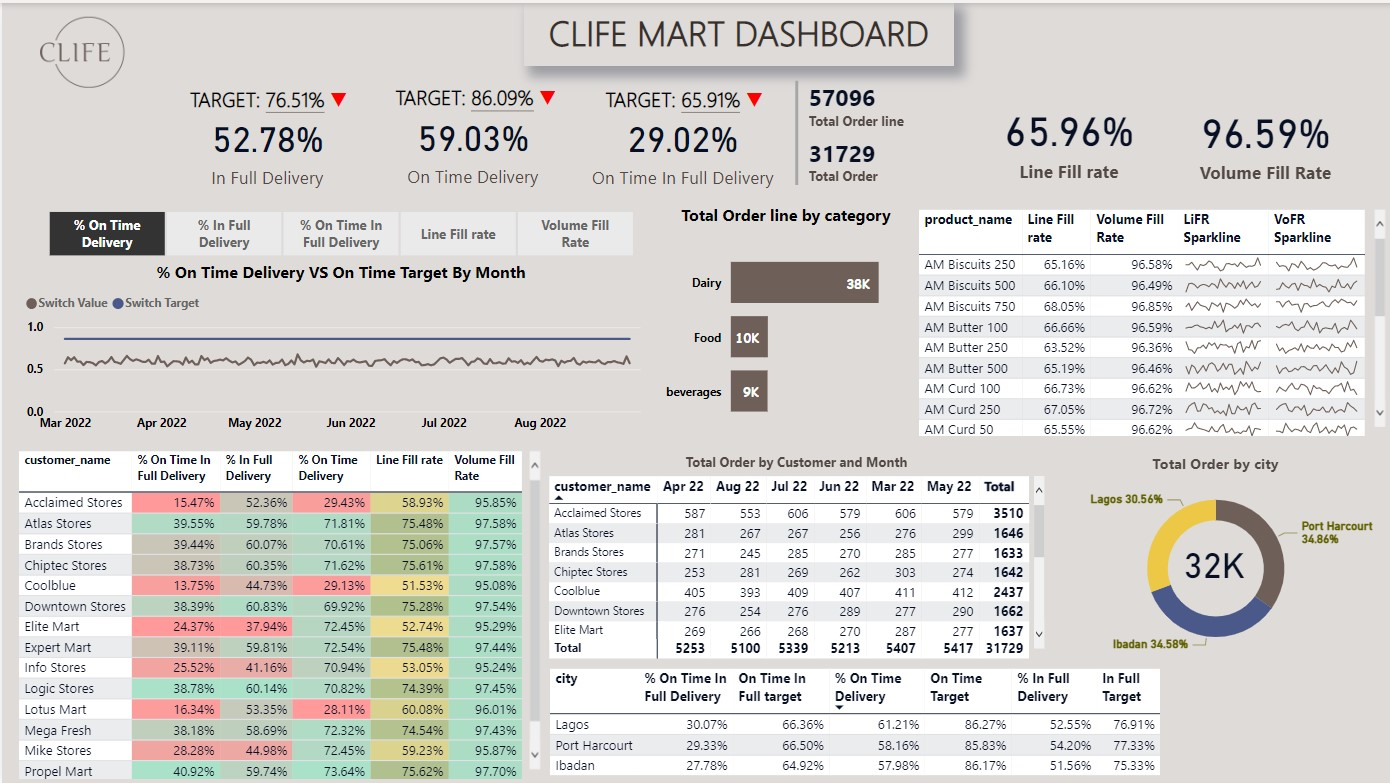

Layout of this report page (visuals, bound fields, positions):
{"tool":"powerbi","page":{"name":"Dashboard","canvas":[1280,720],"ordinal":0},"visuals":[{"type":"group","id":"g1","title":"Group 1","box":[154.4,66.9,182,133],"z":0,"group":"g4"},{"type":"textbox","box":[350.8,69.1,174.3,45.9],"z":0,"group":"g3"},{"type":"textbox","box":[544.8,70,174.3,45.9],"z":0,"group":"g5"},{"type":"textbox","box":[162.1,70.3,174.3,45.9],"z":0,"group":"g1"},{"type":"group","id":"g2","title":"Group 1","box":[17.2,185,591.6,218.6],"z":0},{"type":"slicer","fields":{"Values":["Parameter.Parameter"]},"box":[18,185,587,47.4],"z":0,"group":"g2"},{"type":"donutChart","fields":{"Category":["dim_customers.city"],"Y":["Measure.Total Order"]},"box":[964.9,414.9,307,194],"z":0,"group":"g6"},{"type":"image","box":[9.3,0,115.1,90.2],"z":1000},{"type":"group","id":"g3","title":"Group 1","box":[343.1,65.7,182,133],"z":1000,"group":"g4"},{"type":"card","fields":{"Values":["Measure.% On Time Delivery"]},"box":[343.1,65.7,178.9,133],"z":1000,"group":"g3"},{"type":"card","fields":{"Values":["Measure.% On Time In Full Delivery"]},"box":[537.1,66.6,178.9,133],"z":1000,"group":"g5"},{"type":"card","fields":{"Values":["Measure.% In Full Delivery"]},"box":[154.4,66.9,178.9,133],"z":1000,"group":"g1"},{"type":"lineChart","fields":{"Y":["Measure.Switch Value","Measure.Switch Target"],"Category":["dim_date.date"]},"box":[17.2,237,591.6,166.6],"z":1000,"group":"g2"},{"type":"card","fields":{"Values":["Measure.Total Order"]},"box":[1050.7,475.9,133,81],"z":1000,"group":"g6"},{"type":"group","id":"g4","title":"Group 2","box":[154.4,65.7,565.6,133],"z":2000},{"type":"group","id":"g5","title":"Group 1","box":[537.1,66.6,183.4,133],"z":2000,"group":"g4"},{"type":"clusteredBarChart","fields":{"Category":["dim_products.category"],"Y":["Measure.Total Order line"]},"box":[605.4,185,233.9,218.6],"z":3000},{"type":"tableEx","fields":{"Values":["dim_customers.customer_name","Measure.% On Time In Full Delivery","Measure.% In Full Delivery","Measure.% On Time Delivery","Measure.Line Fill rate","Measure.Volume Fill Rate"]},"box":[9.2,408.2,490.7,311.8],"z":4000},{"type":"tableEx","fields":{"Values":["dim_products.product_name","Measure.Line Fill rate","Measure.Volume Fill Rate","SparklineData(Measure.Line Fill rate_[dim_date.week_no])","SparklineData(Measure.Volume Fill Rate_[dim_date.week_no])"]},"box":[839.2,185,440.3,218.6],"z":5000},{"type":"textbox","box":[481.5,0,395.9,58.1],"z":6000},{"type":"multiRowCard","fields":{"Values":["Measure.Total Order line","Measure.Total Order"]},"box":[726.1,65.7,157.5,119.2],"z":7000},{"type":"card","fields":{"Values":["Measure.Line Fill rate"]},"box":[892.7,65.7,180.4,119.2],"z":8000},{"type":"card","fields":{"Values":["Measure.Volume Fill Rate"]},"box":[1073.1,67.3,180.4,119.2],"z":9000},{"type":"pivotTable","title":"Total Order by Customer and Month","fields":{"Rows":["dim_customers.customer_name"],"Values":["Measure.Total Order"],"Columns":["dim_date.mmm_yy"]},"box":[498.9,414.8,466.2,194.1],"z":10000},{"type":"group","id":"g6","title":"Group 3","box":[964.9,414.9,307,194],"z":11000},{"type":"tableEx","fields":{"Values":["dim_customers.city","Measure.% On Time In Full Delivery","Measure.On Time In Full target","Measure.% On Time Delivery","Measure.On Time Target","Measure.% In Full Delivery","Measure.In Full Target"]},"box":[498.9,608.1,586,111.9],"z":12000}]}

Visuals, with their boxes in screenshot pixels (x1, y1, x2, y2), scaled from the page's 1280x720 canvas onto the 1390x783 screenshot:
"Group 1" group: [168, 73, 365, 217]
textbox: [381, 75, 570, 125]
textbox: [592, 76, 781, 126]
textbox: [176, 76, 365, 126]
"Group 1" group: [19, 201, 661, 439]
slicer - Parameter.Parameter: [20, 201, 657, 253]
donutChart - dim_customers.city x Measure.Total Order: [1048, 451, 1381, 662]
image: [10, 0, 135, 98]
"Group 1" group: [373, 71, 570, 216]
card - Measure.% On Time Delivery: [373, 71, 567, 216]
card - Measure.% On Time In Full Delivery: [583, 72, 778, 217]
card - Measure.% In Full Delivery: [168, 73, 362, 217]
lineChart - Measure.Switch Value x Measure.Switch Target: [19, 258, 661, 439]
card - Measure.Total Order: [1141, 518, 1285, 606]
"Group 2" group: [168, 71, 782, 216]
"Group 1" group: [583, 72, 782, 217]
clusteredBarChart - dim_products.category x Measure.Total Order line: [657, 201, 911, 439]
tableEx - dim_customers.customer_name x Measure.% On Time In Full Delivery: [10, 444, 543, 782]
tableEx - dim_products.product_name x Measure.Line Fill rate: [911, 201, 1389, 439]
textbox: [523, 0, 953, 63]
multiRowCard - Measure.Total Order line x Measure.Total Order: [788, 71, 960, 201]
card - Measure.Line Fill rate: [969, 71, 1165, 201]
card - Measure.Volume Fill Rate: [1165, 73, 1361, 203]
"Total Order by Customer and Month" pivotTable: [542, 451, 1048, 662]
"Group 3" group: [1048, 451, 1381, 662]
tableEx - dim_customers.city x Measure.% On Time In Full Delivery: [542, 661, 1178, 782]
